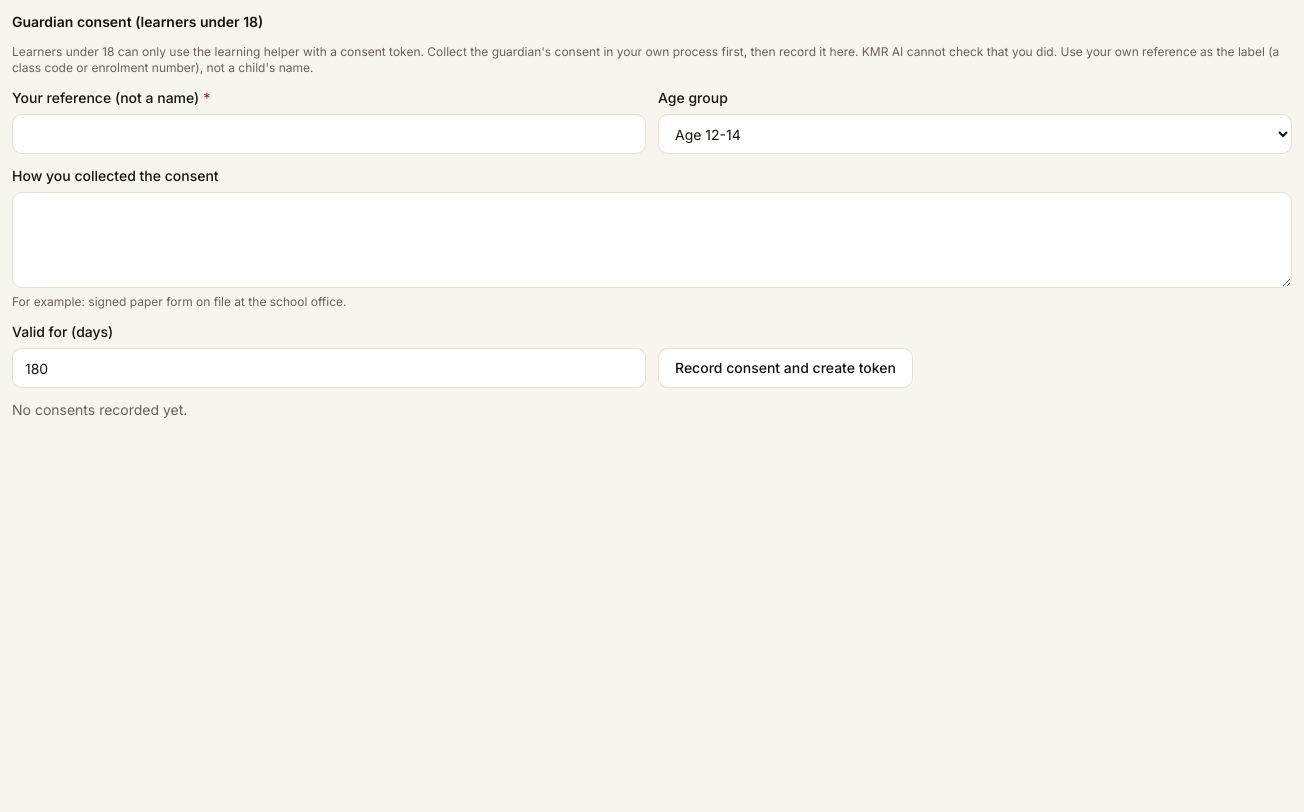
Test case: ConsentsCard › shows the token once after recording a consent
Type "class-7B-roll-14" into the field labelled "Your reference (not a name)*".
click(329, 134); type("class-7B-roll-14")  # box [12,114,646,154]
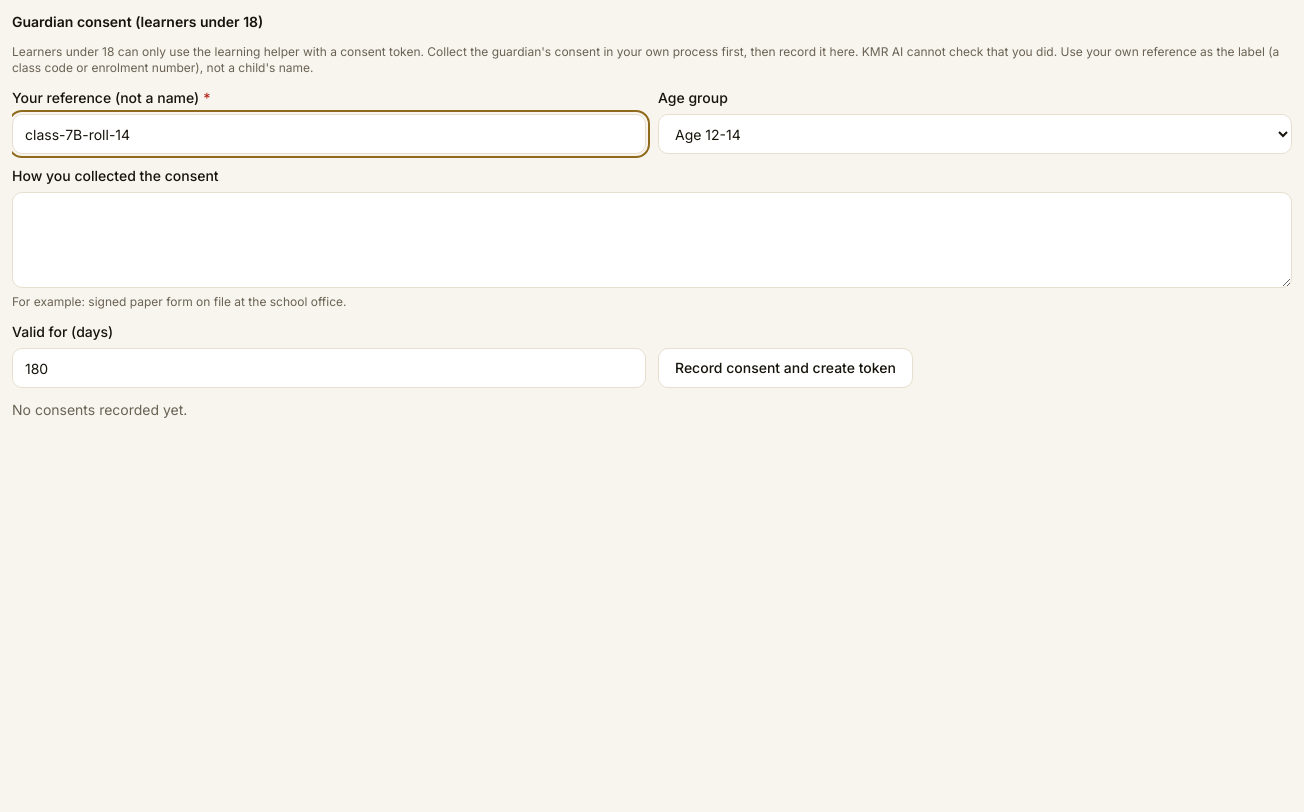
Type "Signed form on file" into the text box labelled "How you collected the consent".
click(652, 240); type("Signed form on file")  # box [12,192,1292,288]
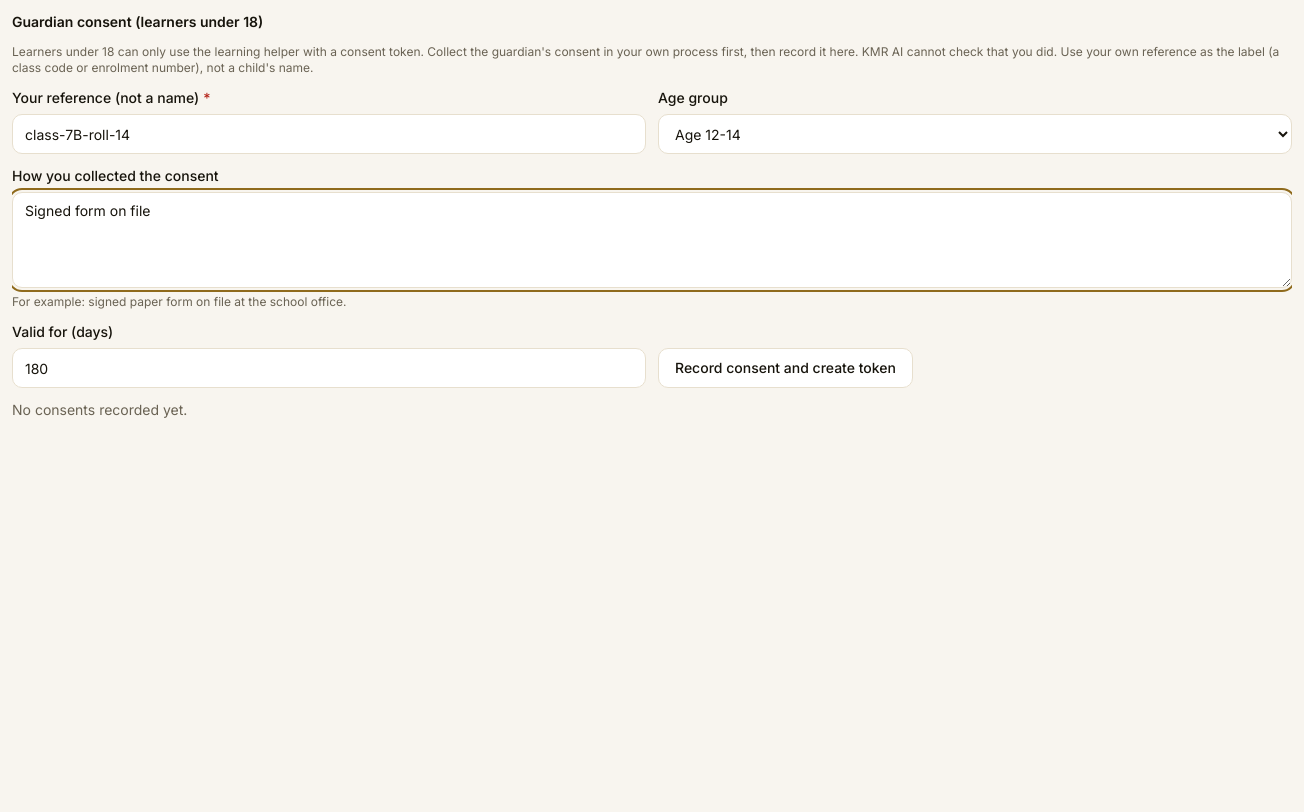
Click the button "Record consent and create token".
click(785, 368)  # box [658,348,913,388]
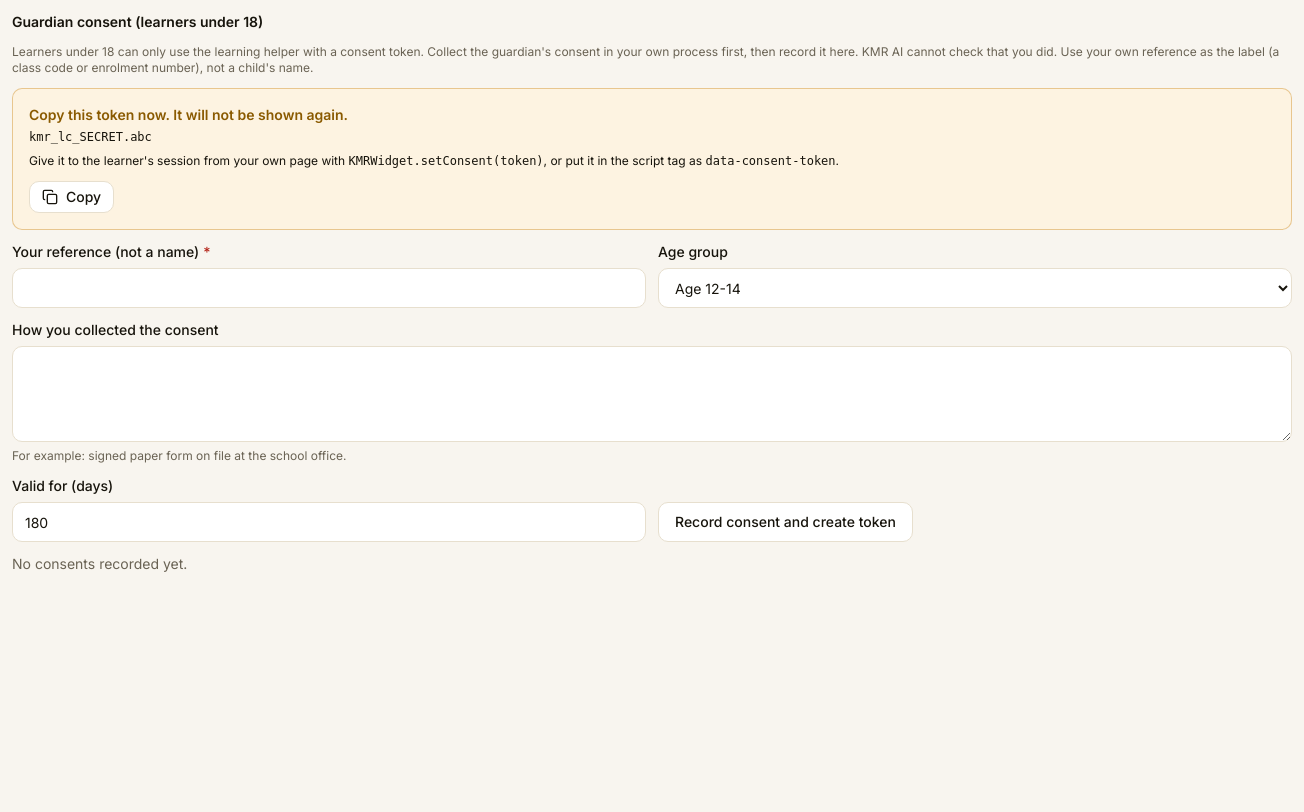
Now the text "kmr_lc_SECRET.abc" is shown, box [29,130,152,144]
Now the text "Copy this token now. It will not be shown again." is shown, box [29,106,348,123]
